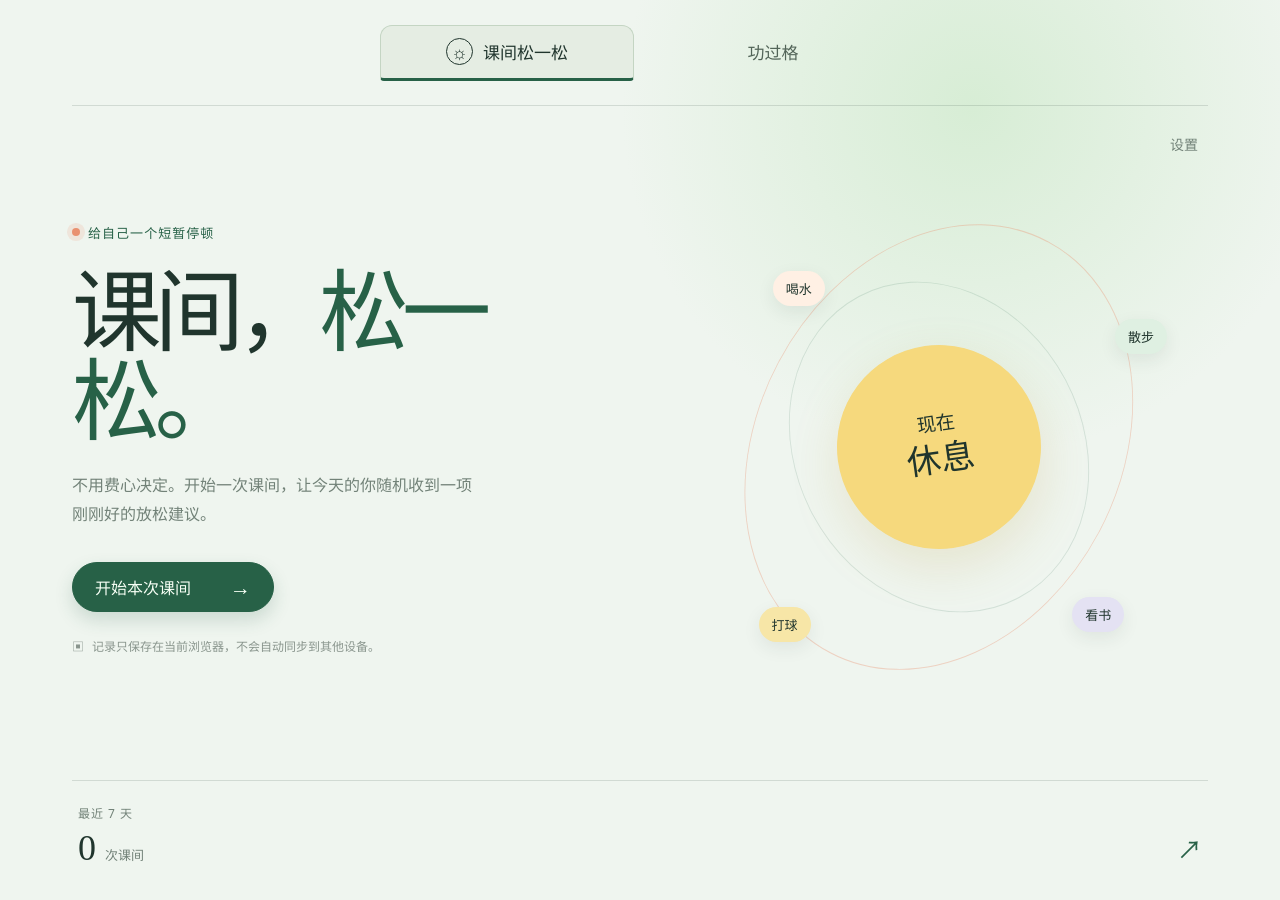
Test: 双模块导航 › keeps settings within the current module and closes a settings panel before switching modules
Click the button "开始本次课间 →".
click(173, 586)  # box [72,562,274,612]
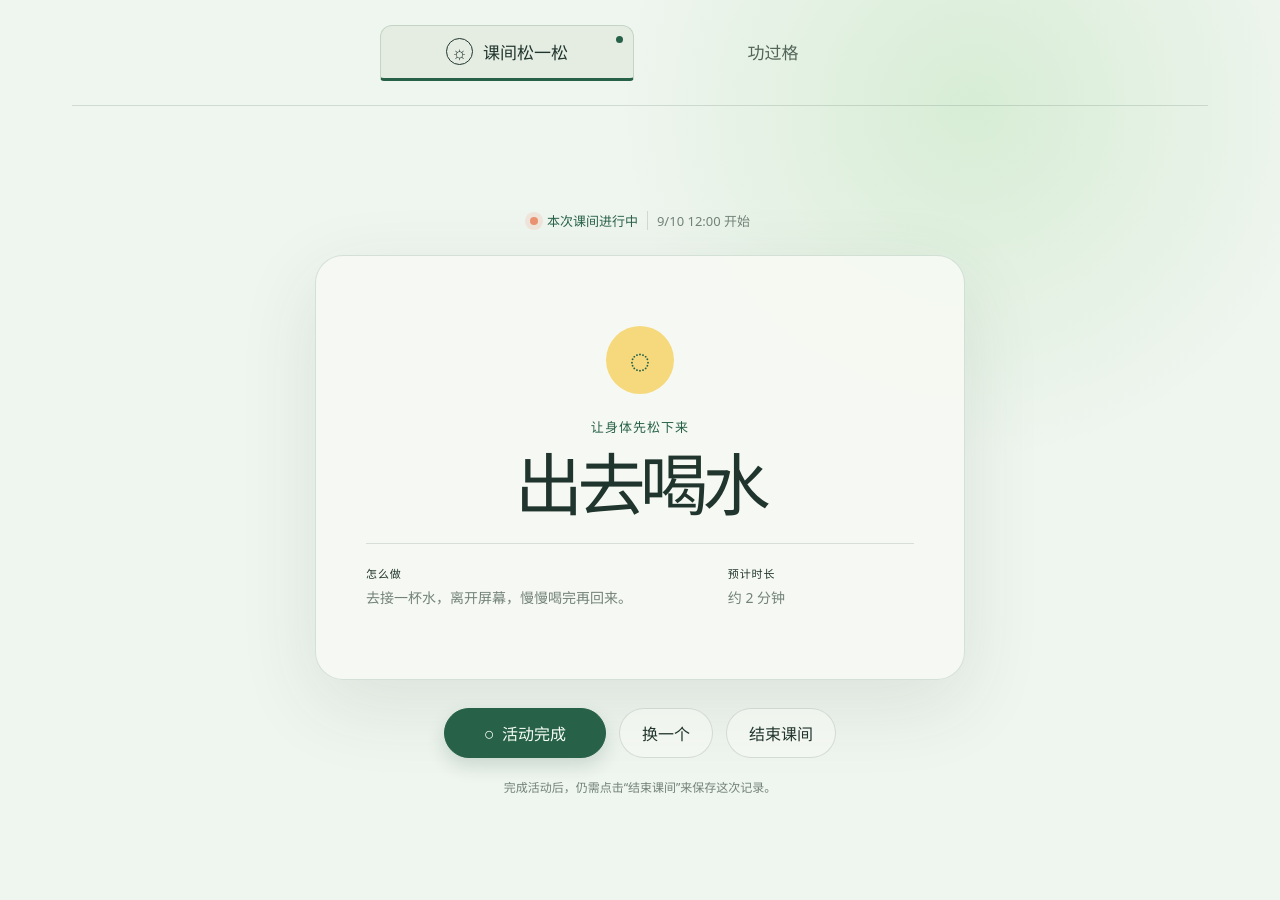
Expected: the heading "出去喝水" is shown, [515,452,765,515]
Click the button "功过格".
click(773, 52)  # box [646,24,900,80]
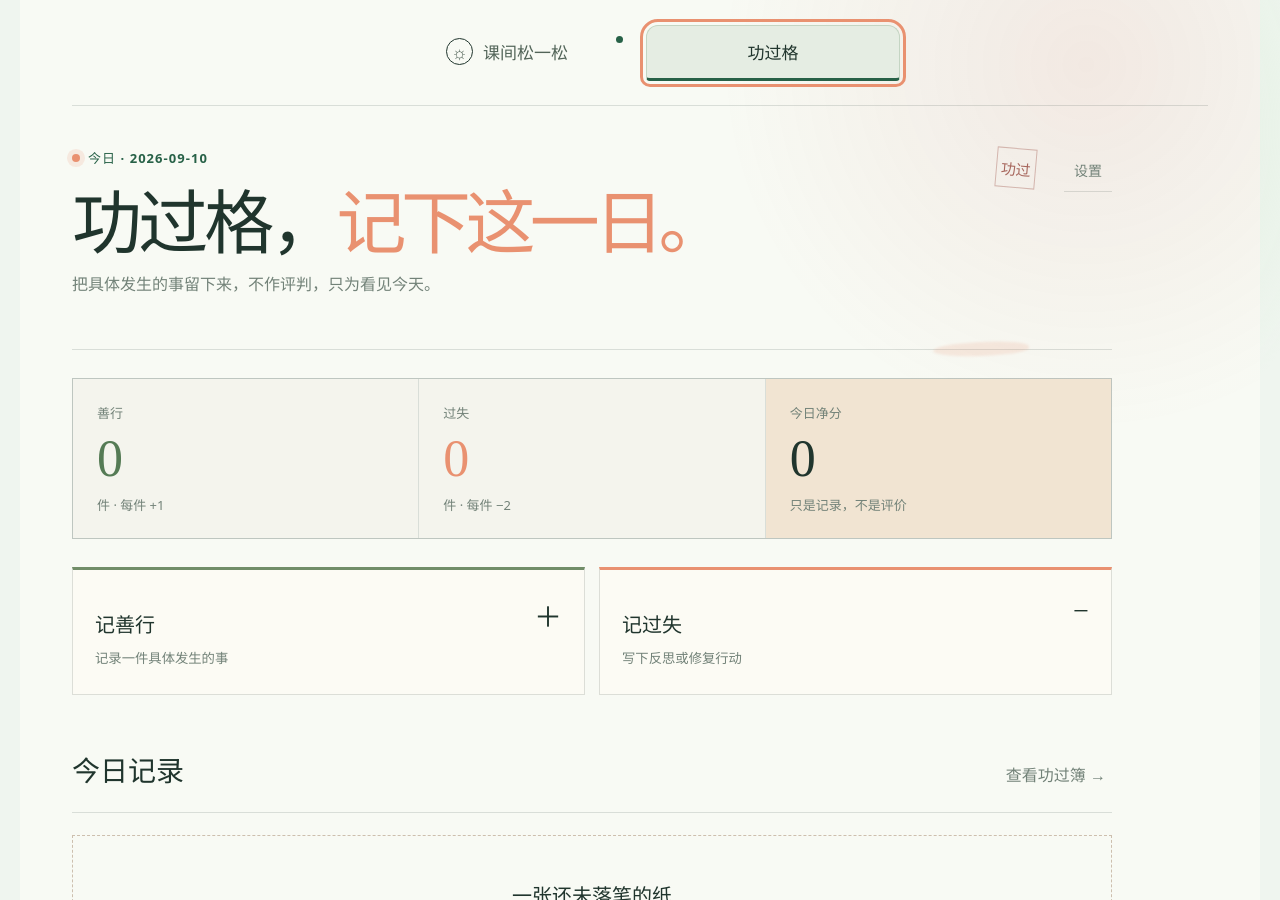
Click the button "设置".
click(1088, 170)  # box [1064,148,1112,192]
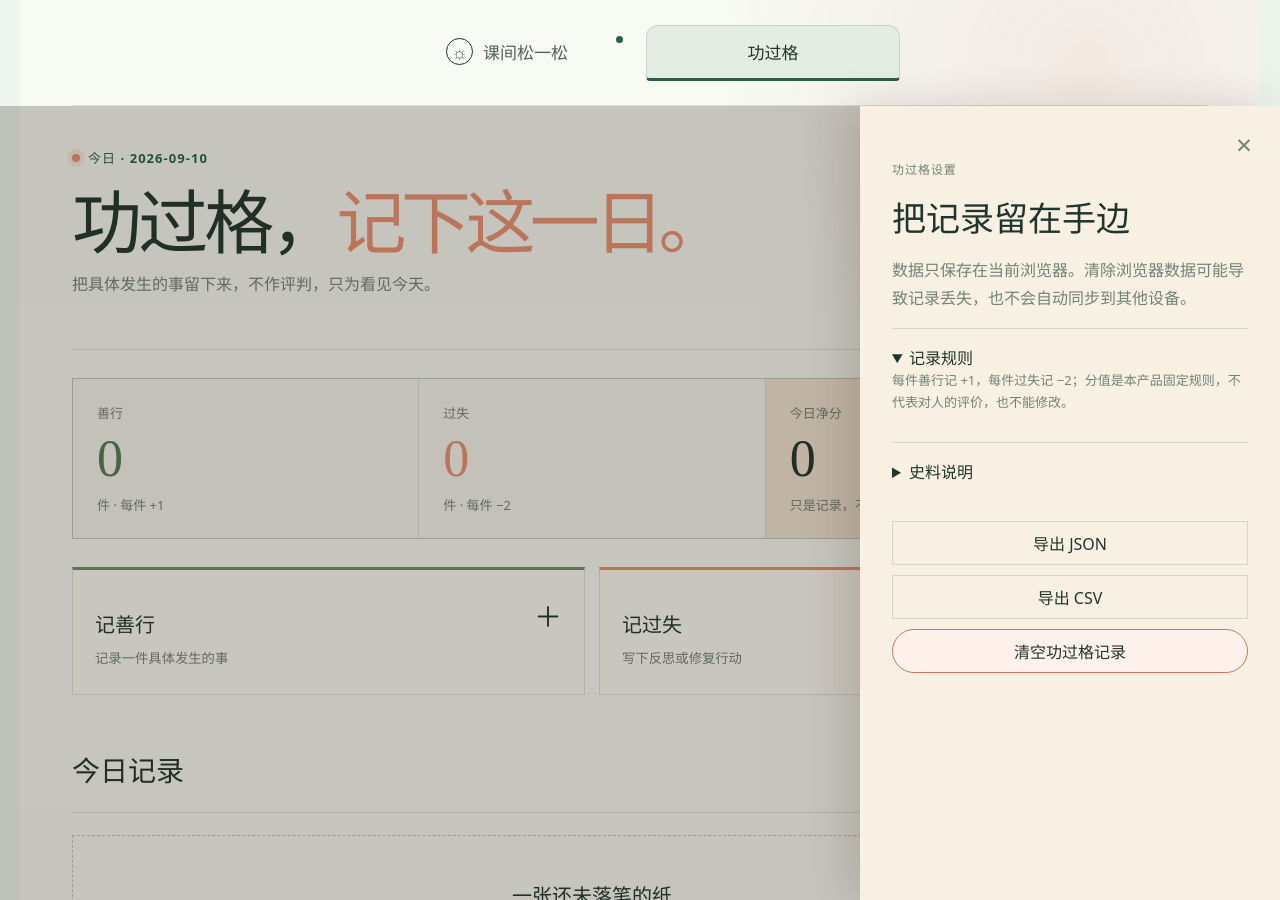
Expected: the dialog "把记录留在手边" is shown, [860,106,1279,899]
Click the button "☼ 课间松一松".
click(507, 52)  # box [380,24,634,80]
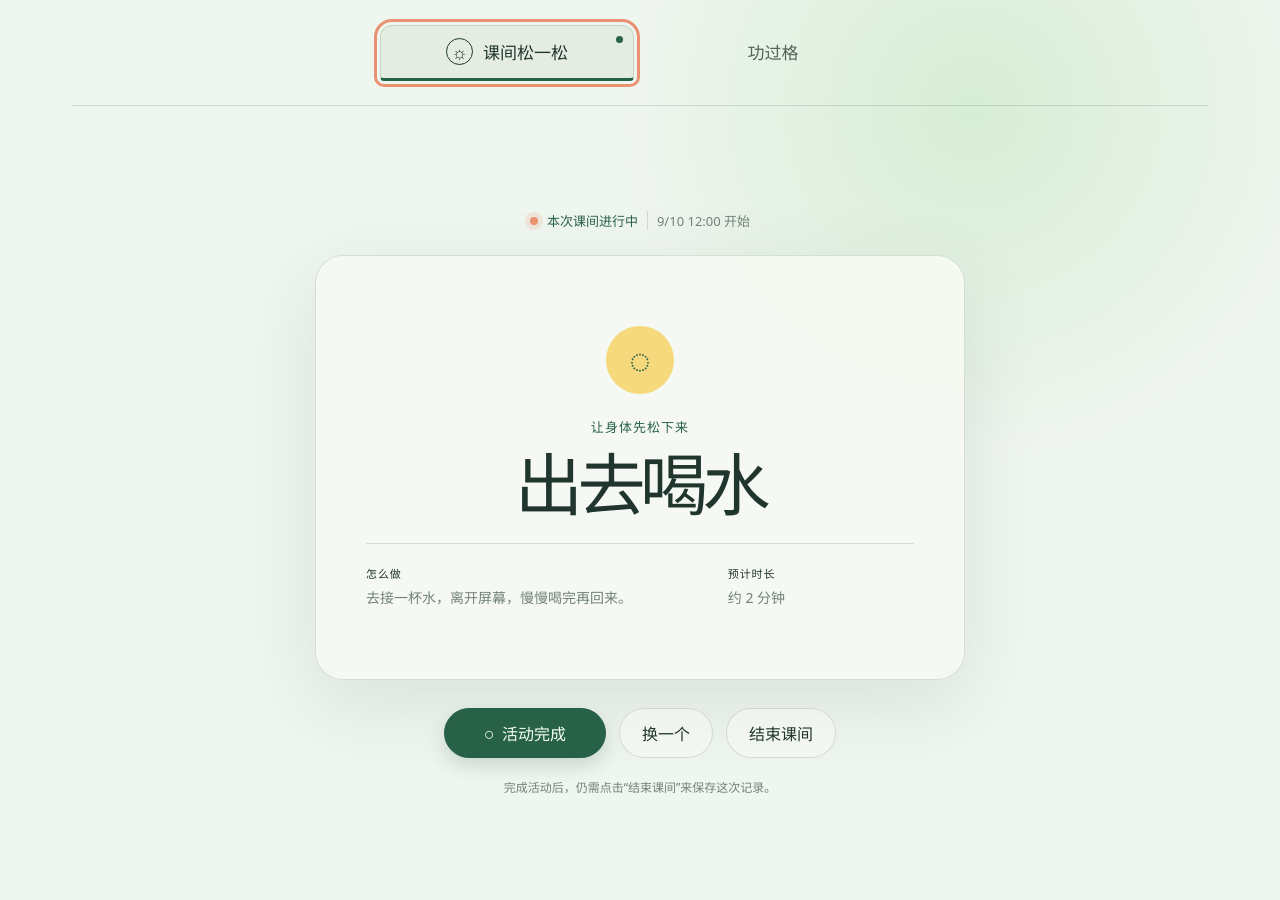
Expected: the heading "把记录留在手边" is gone
Expected: the heading "出去喝水" is shown, [515,452,765,515]
Expected: the button "设置" is gone
Click the button "功过格".
click(773, 52)  # box [646,24,900,80]
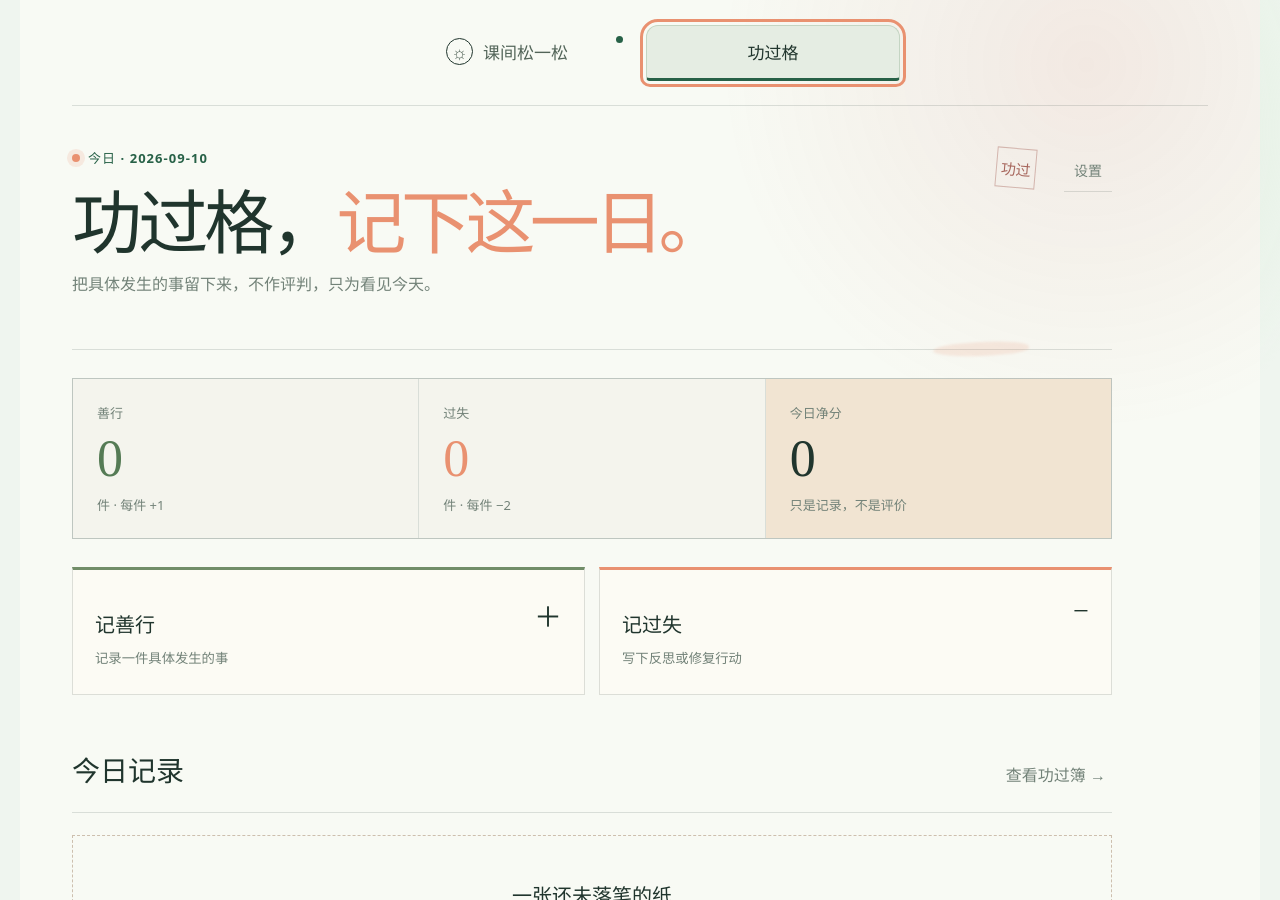
Expected: the button "设置" is shown, [1064,148,1112,192]
